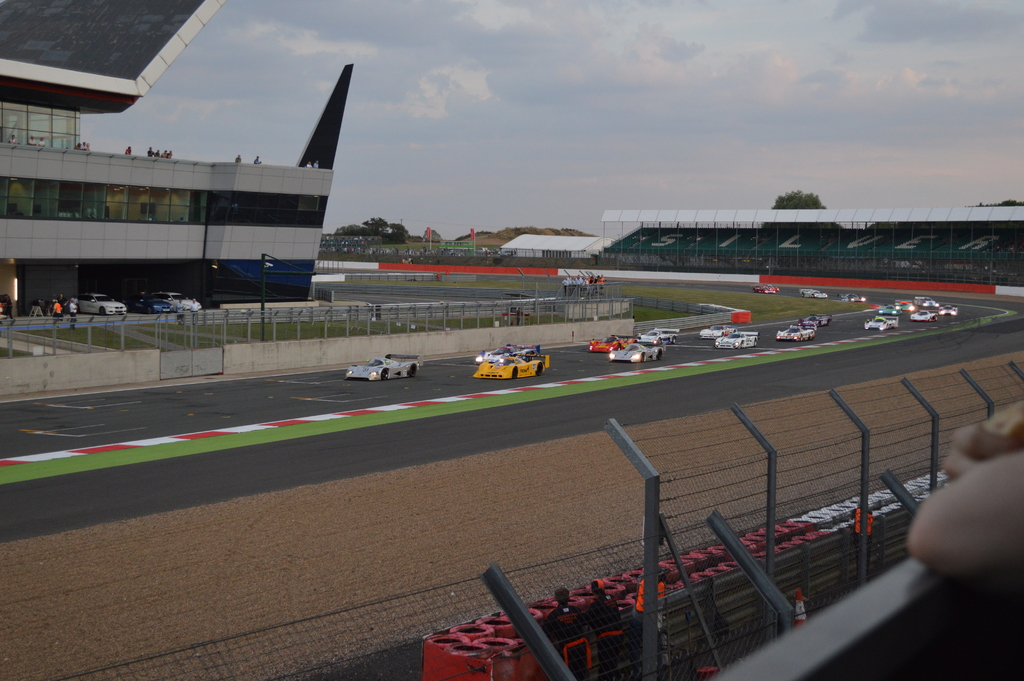Car: (879, 297, 959, 323), (344, 355, 424, 380), (471, 354, 548, 379), (475, 341, 540, 364), (78, 291, 127, 315), (610, 340, 664, 361), (587, 332, 639, 352), (149, 291, 201, 309), (714, 330, 758, 350), (774, 322, 817, 341), (638, 329, 679, 344), (864, 316, 899, 333), (699, 323, 735, 338), (135, 300, 173, 314), (800, 287, 829, 300), (804, 312, 835, 324), (839, 291, 870, 301), (752, 284, 780, 294)
